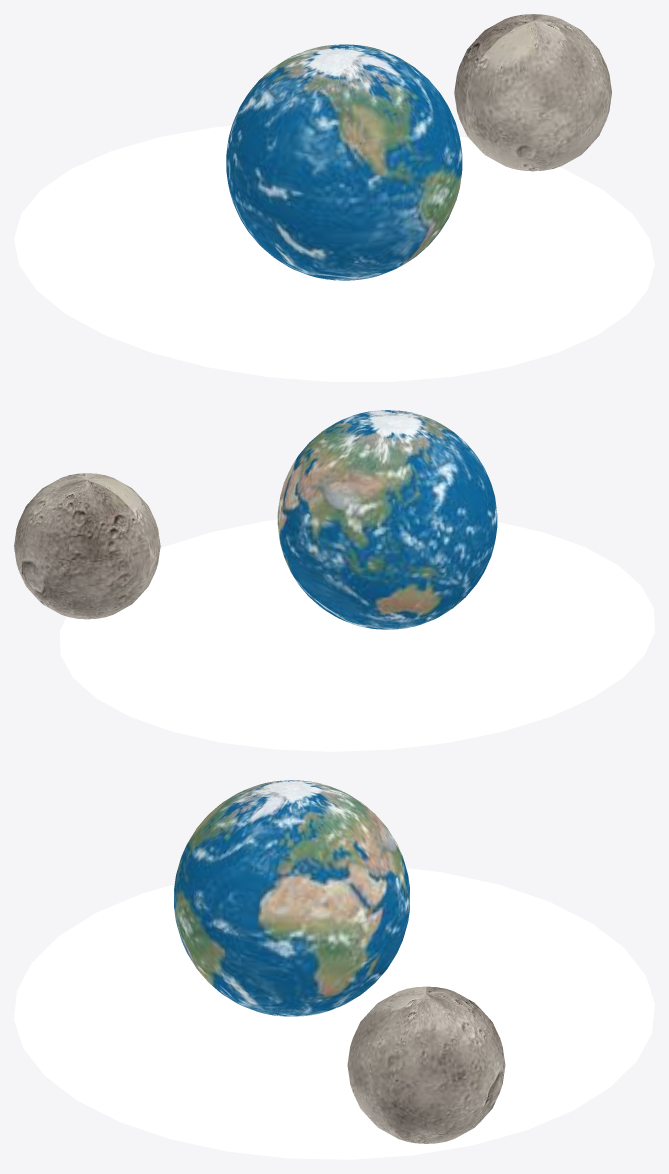
Rendered from earth-moon4.gltf.
The picture shows the model from 3 angles, top to bottom: view 1: azimuth 30°, elevation 25°; view 2: azimuth 150°, elevation 25°; view 3: azimuth 270°, elevation 25°; orthographic projection. The views are drawn at different scales.
Parts seen in each view (by area): view 1: Circle, Sphere, Sphere_1; view 2: Circle, Sphere, Sphere_1; view 3: Circle, Sphere, Sphere_1.
Boxes of the visible parts, box(x1,y1,x2,y2) form: Circle: box(14, 126, 654, 381); Sphere: box(226, 44, 462, 280); Sphere_1: box(454, 14, 611, 171); Circle: box(59, 519, 654, 751); Sphere: box(277, 410, 497, 629); Sphere_1: box(14, 473, 160, 619); Circle: box(14, 868, 654, 1159); Sphere: box(174, 780, 409, 1016); Sphere_1: box(347, 986, 505, 1143).
Bounding box in the file's own units: 8.64 × 3.18 × 8.11.
Materials: 3 (2 with a texture image).
